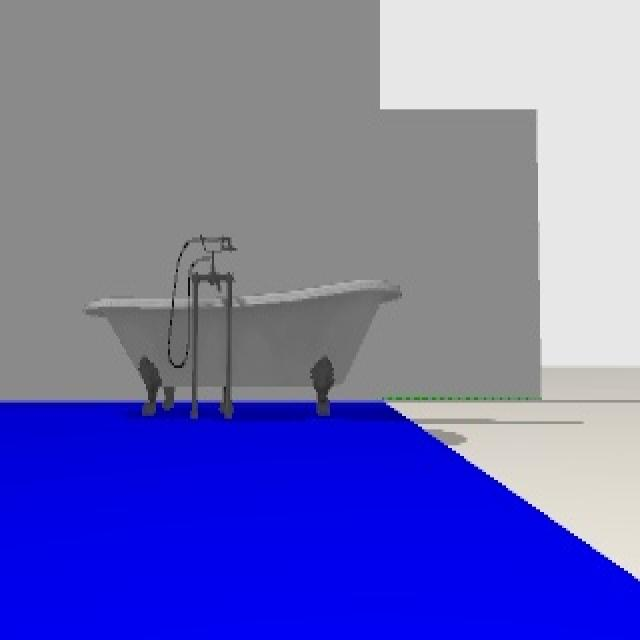bathtub: (86, 232, 403, 418)
